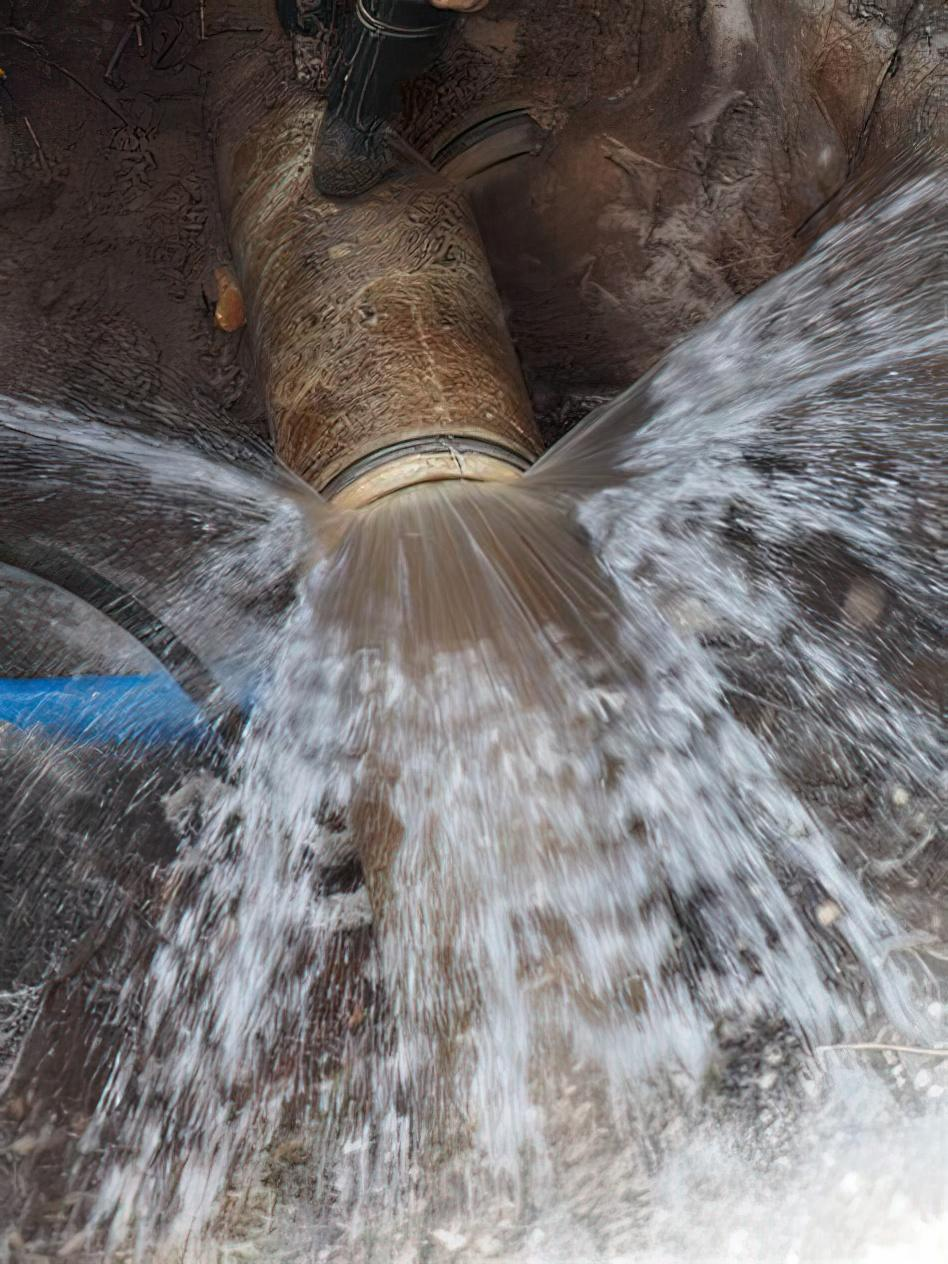pipe burst: (0, 186, 948, 1264)
